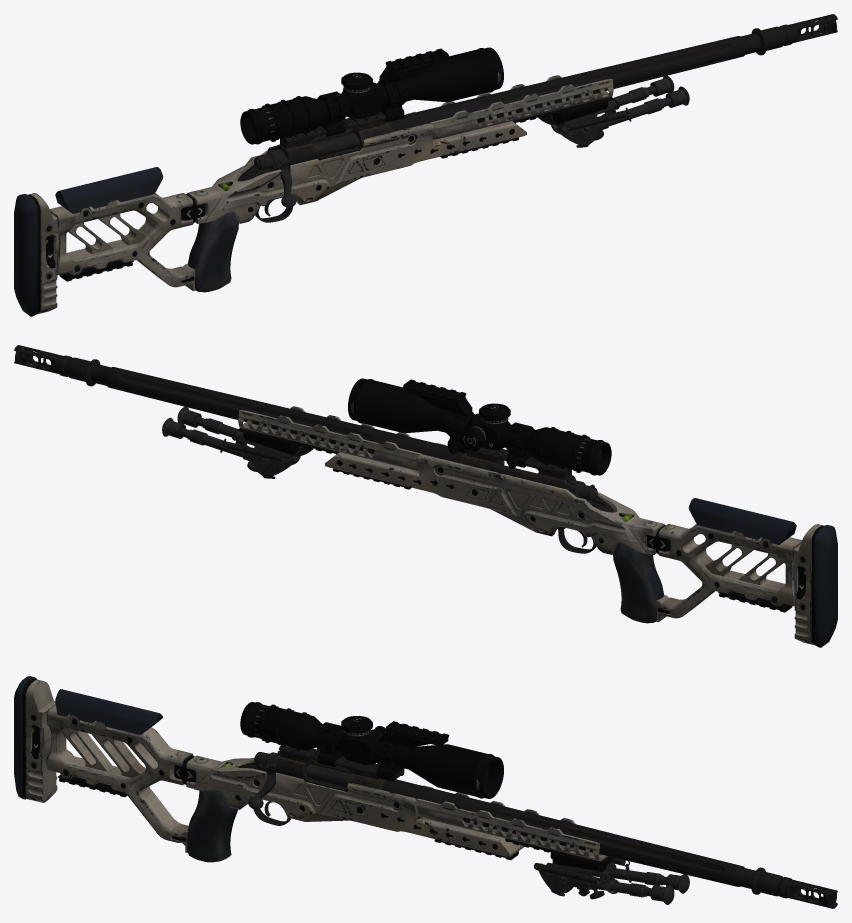
The model's file is sniper.glb.
3 views of the same model, one above another, from view 1: azimuth 30°, elevation 25°; view 2: azimuth 150°, elevation 25°; view 3: azimuth 330°, elevation 25° (orthographic).
Visible parts, largest first — view 1: mtl_wpn_h1_sni_m40a3_asn_receiver_camo_3, mtl_wpn_h1_sni_m40a3_asn_stock_camo_5, mtl_wpn_h1_sni_m40a3_asn_scope_10, mtl_wpn_h1_sni_m40a3_receiver_camo_7, mtl_wpn_h1_sni_m21_bipod_1; view 2: mtl_wpn_h1_sni_m40a3_asn_receiver_camo_3, mtl_wpn_h1_sni_m40a3_asn_stock_camo_5, mtl_wpn_h1_sni_m40a3_asn_scope_10, mtl_wpn_h1_sni_m21_bipod_1, mtl_wpn_h1_sni_m40a3_receiver_camo_7; view 3: mtl_wpn_h1_sni_m40a3_asn_receiver_camo_3, mtl_wpn_h1_sni_m40a3_asn_stock_camo_5, mtl_wpn_h1_sni_m40a3_asn_scope_10, mtl_wpn_h1_sni_m40a3_receiver_camo_7, mtl_wpn_h1_sni_m21_bipod_1.
Boxes of the visible parts, left/top/right/bottom form: mtl_wpn_h1_sni_m40a3_asn_receiver_camo_3: left=183, top=14, right=837, bottom=292; mtl_wpn_h1_sni_m40a3_asn_stock_camo_5: left=14, top=167, right=204, bottom=316; mtl_wpn_h1_sni_m40a3_asn_scope_10: left=240, top=47, right=503, bottom=144; mtl_wpn_h1_sni_m40a3_receiver_camo_7: left=238, top=111, right=392, bottom=222; mtl_wpn_h1_sni_m21_bipod_1: left=538, top=75, right=689, bottom=147; mtl_wpn_h1_sni_m40a3_asn_receiver_camo_3: left=14, top=345, right=668, bottom=623; mtl_wpn_h1_sni_m40a3_asn_stock_camo_5: left=647, top=498, right=837, bottom=647; mtl_wpn_h1_sni_m40a3_asn_scope_10: left=348, top=378, right=611, bottom=475; mtl_wpn_h1_sni_m21_bipod_1: left=162, top=406, right=313, bottom=478; mtl_wpn_h1_sni_m40a3_receiver_camo_7: left=459, top=447, right=613, bottom=553; mtl_wpn_h1_sni_m40a3_asn_receiver_camo_3: left=182, top=753, right=837, bottom=908; mtl_wpn_h1_sni_m40a3_asn_stock_camo_5: left=14, top=676, right=196, bottom=842; mtl_wpn_h1_sni_m40a3_asn_scope_10: left=240, top=702, right=503, bottom=798; mtl_wpn_h1_sni_m40a3_receiver_camo_7: left=238, top=745, right=403, bottom=825; mtl_wpn_h1_sni_m21_bipod_1: left=534, top=857, right=689, bottom=904.
Size of the model in its own units: 116 by 24.21 by 8.56.
5 materials, 5 textured.
